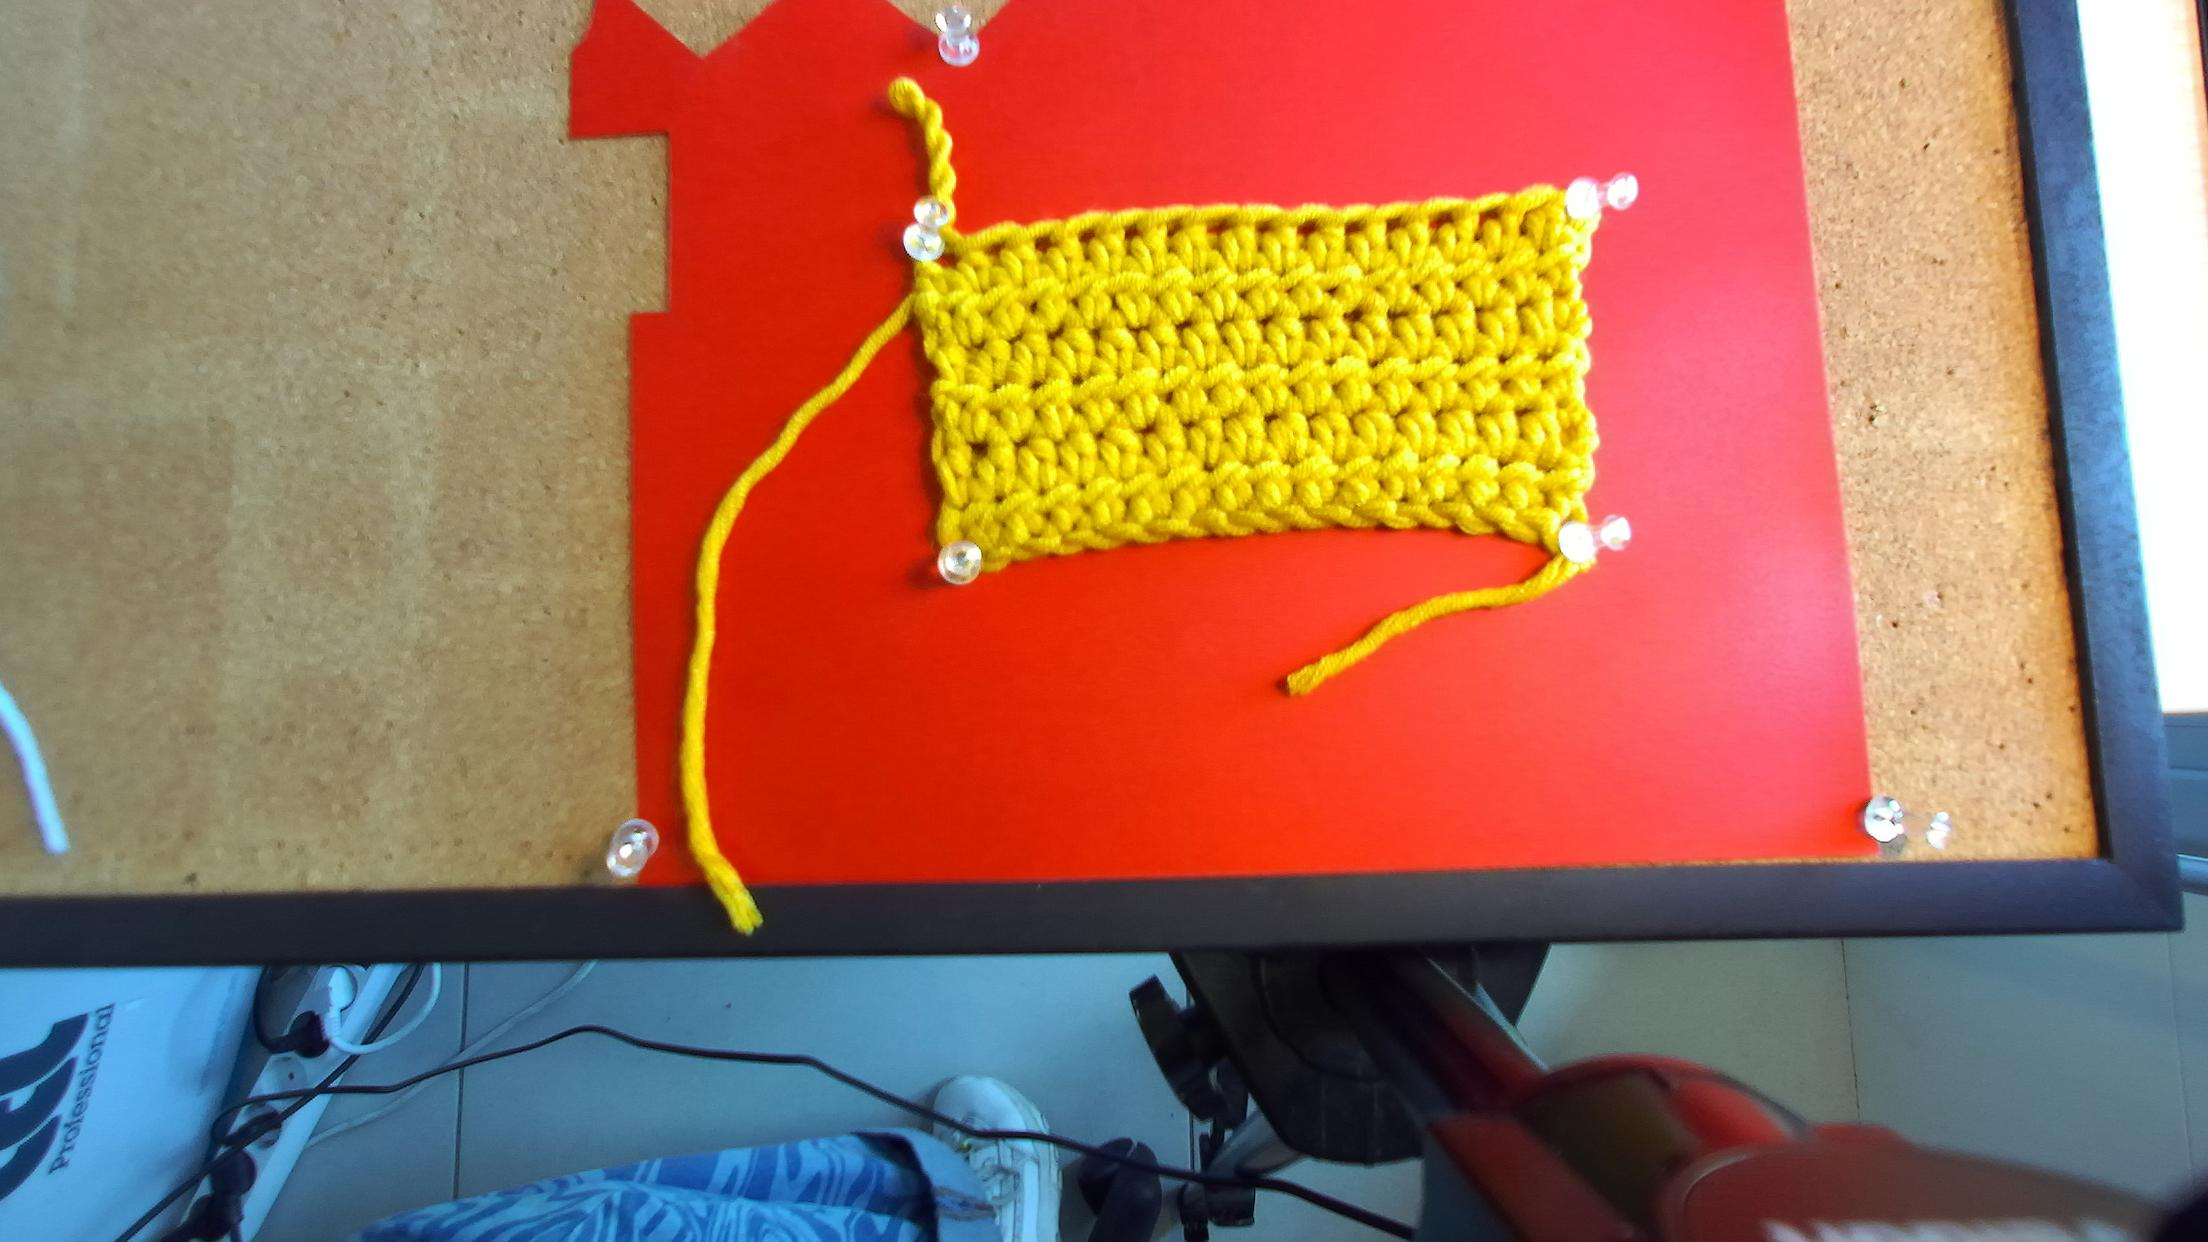hole: (1427, 209, 1457, 234), (931, 247, 960, 270), (1034, 231, 1059, 256), (1295, 217, 1319, 241), (1477, 206, 1501, 231), (1206, 217, 1234, 237), (981, 238, 1008, 258), (1521, 202, 1544, 224), (1124, 218, 1142, 244), (1385, 215, 1406, 237), (1165, 218, 1184, 241), (1077, 226, 1096, 244), (1253, 220, 1272, 237), (1345, 217, 1362, 235)
swatch: (899, 177, 1604, 588)
